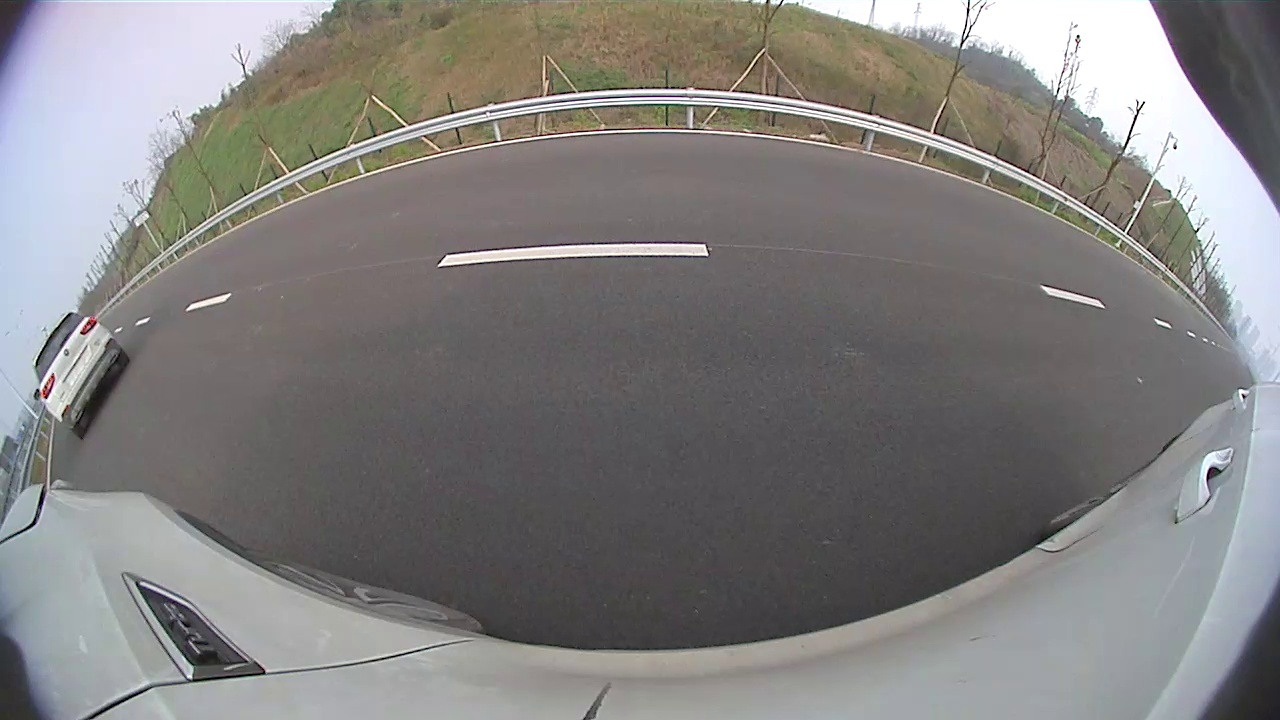car: (33, 313, 129, 436)
